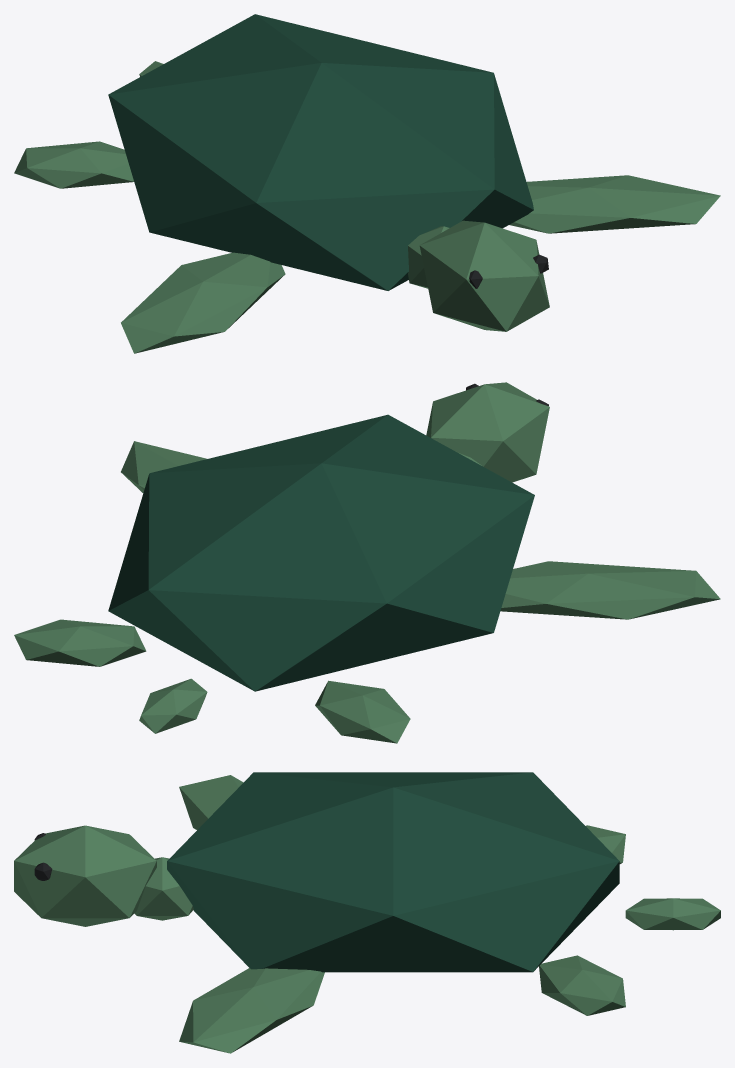
File: Sea_Turtle.glb
The picture shows the model from 3 angles, top to bottom: view 1: azimuth 30°, elevation 25°; view 2: azimuth 150°, elevation 25°; view 3: azimuth 270°, elevation 25°; orthographic projection. The views are drawn at different scales.
Parts seen in each view (by area): view 1: Sea_Turtle; view 2: Sea_Turtle; view 3: Sea_Turtle.
Part boxes in pixels (x1,y1,x2,y2): Sea_Turtle: [14, 14, 720, 353]; Sea_Turtle: [14, 382, 720, 743]; Sea_Turtle: [14, 772, 720, 1053].
Size of the model in its own units: 0.914 by 0.235 by 1.01.
1 material, 1 textured.
